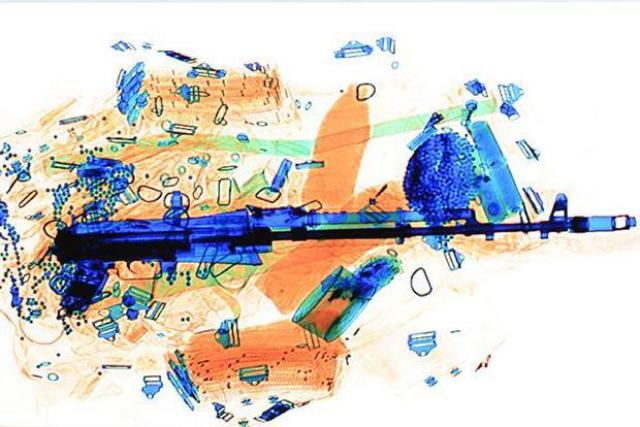Gun: (48, 193, 634, 320)
